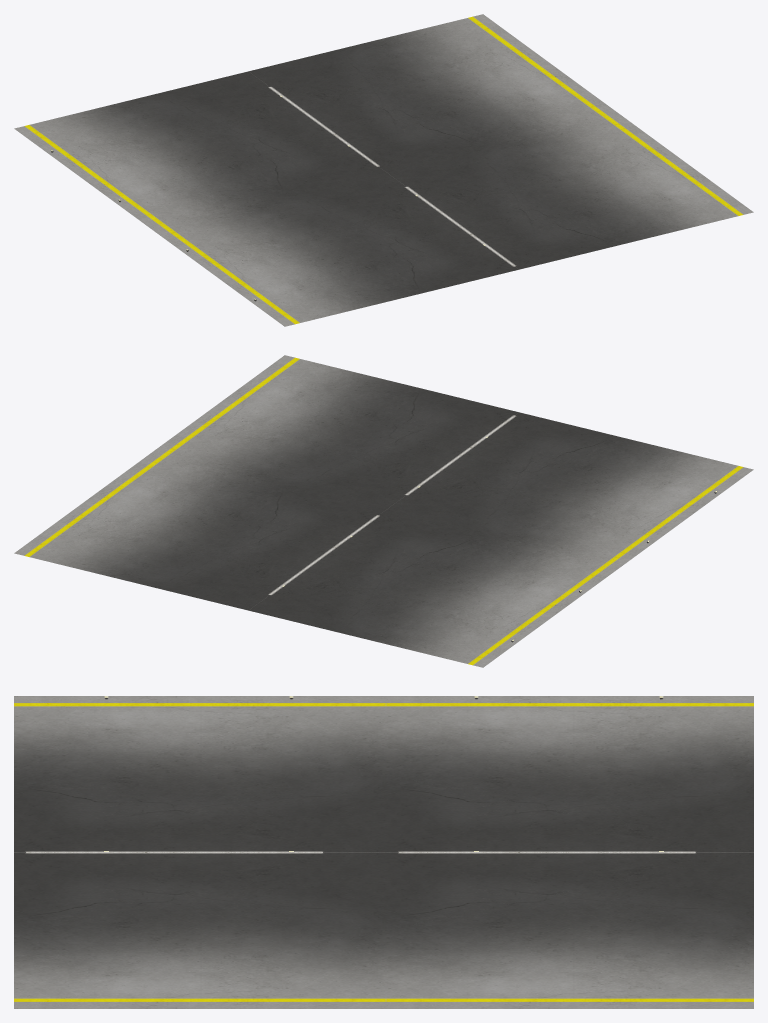
Rendered from air_road_4x4_a.FBX.
3 renders of one model, top to bottom at view 1: azimuth 30°, elevation 25°; view 2: azimuth 150°, elevation 25°; view 3: azimuth 270°, elevation 25°, orthographic. The views are drawn at different scales.
Visible parts, largest first — view 1: air_road_4x4_a; view 2: air_road_4x4_a; view 3: air_road_4x4_a.
Part boxes in pixels (box(x1,y1,x2,y2)): air_road_4x4_a: box(14, 14, 753, 326); air_road_4x4_a: box(14, 355, 753, 667); air_road_4x4_a: box(14, 696, 753, 1008).
Size of the model in its own units: 80 by 0.3185 by 80.
